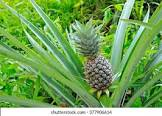Pineapple: (70, 20, 112, 89)
